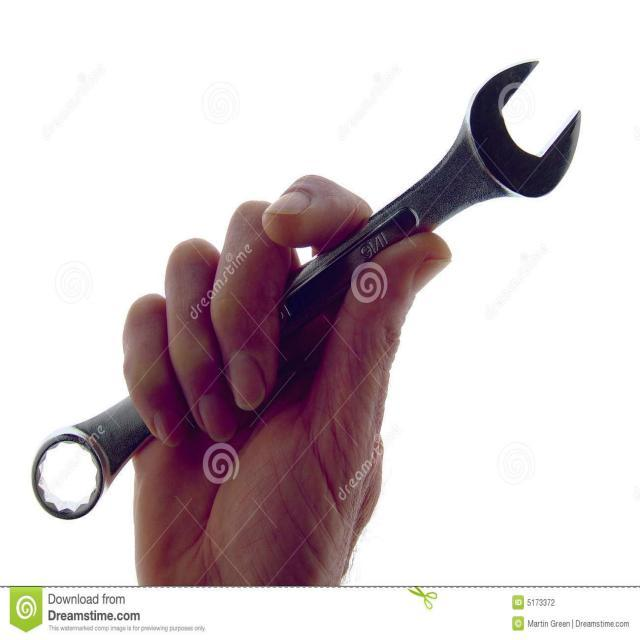wrench: (29, 57, 583, 522)
